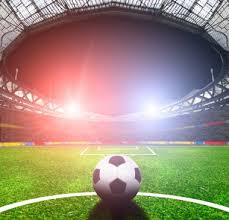football ball: (92, 152, 143, 201)
